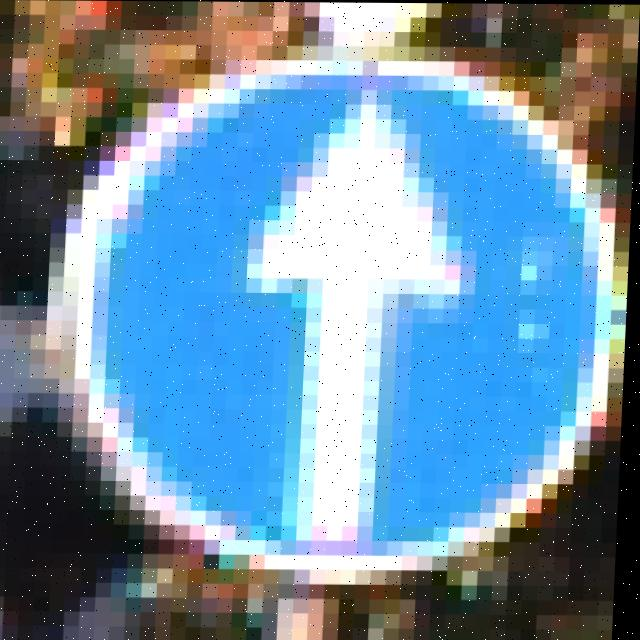compulsory_ahead: (50, 80, 612, 549)
